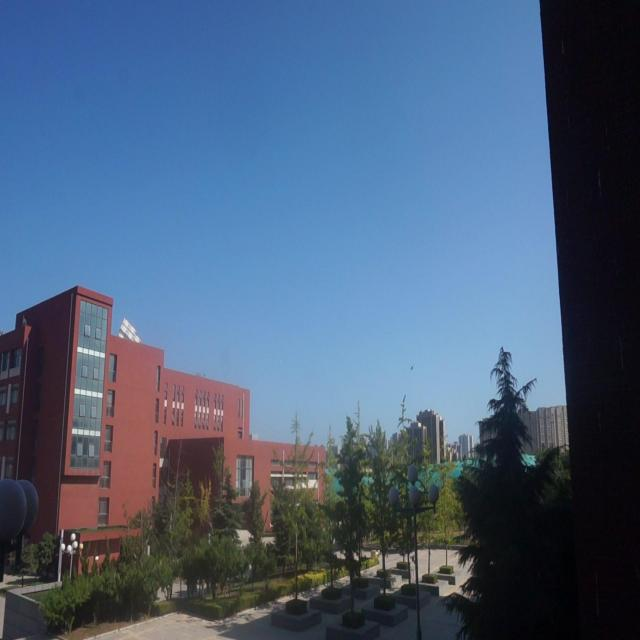UAV: (409, 365, 414, 370)
